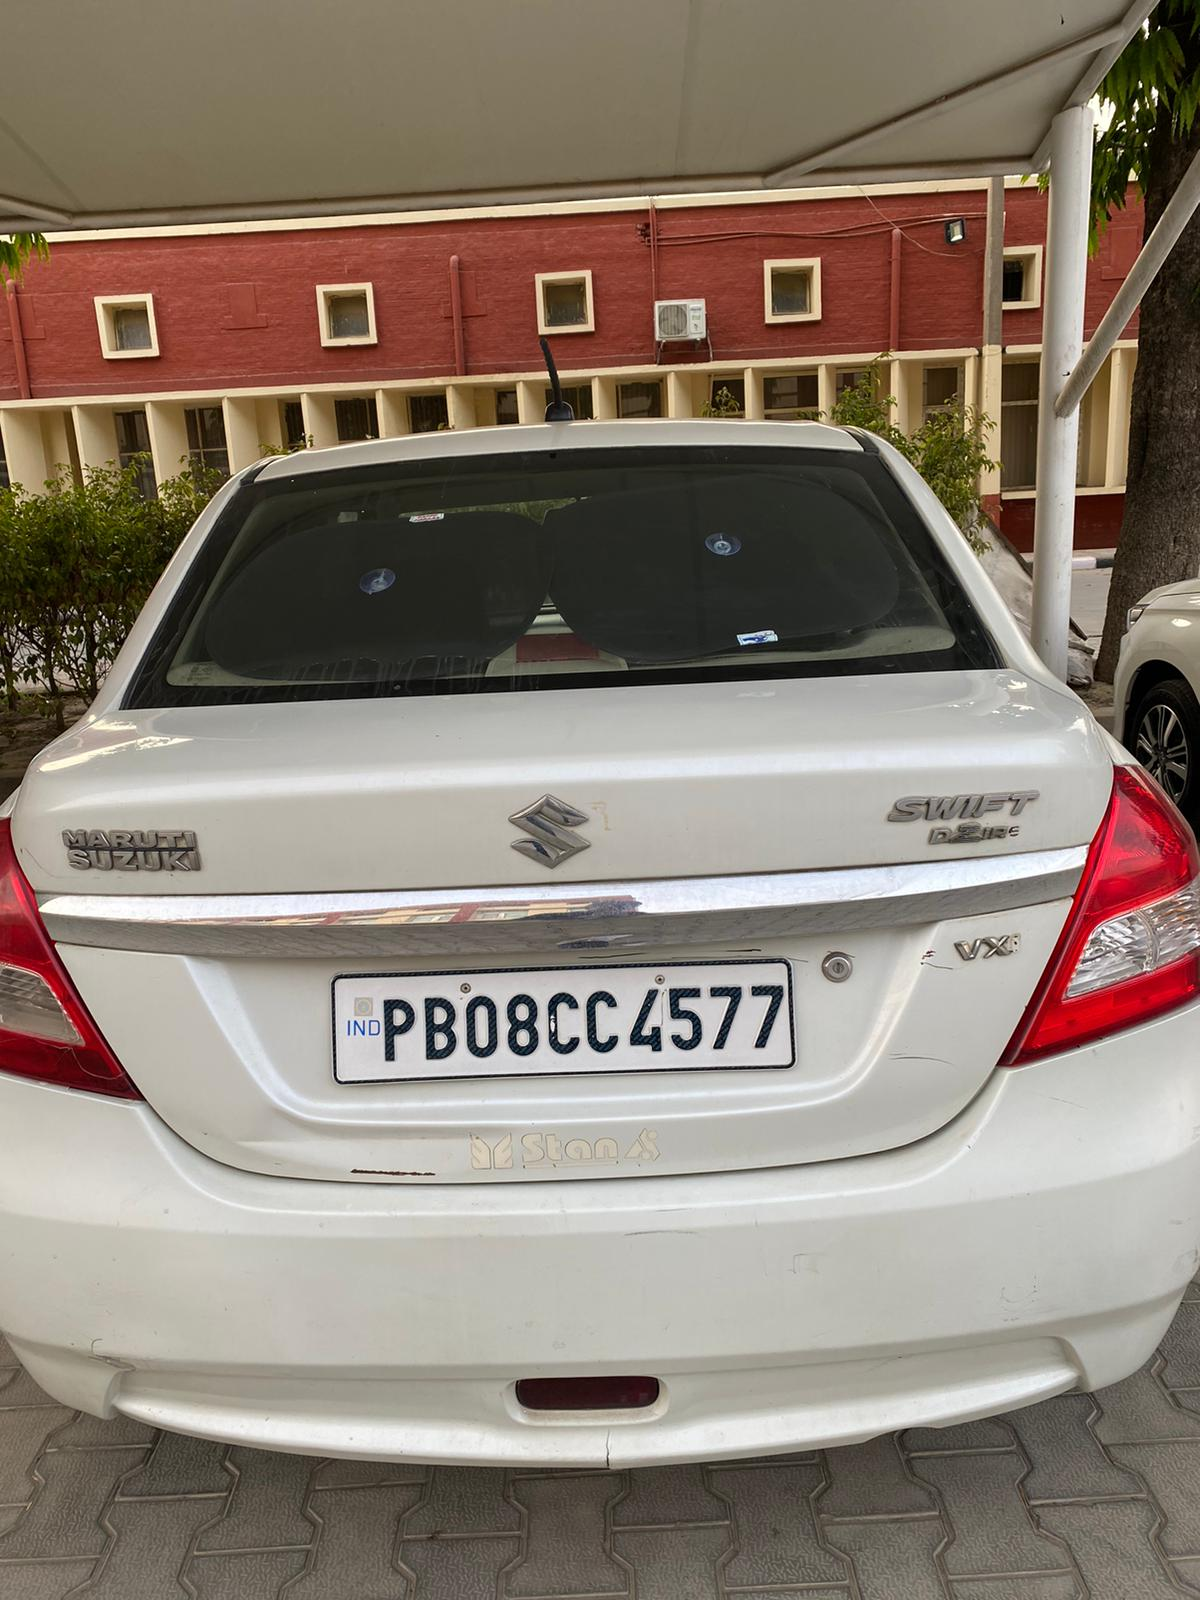license plate: (333, 960, 793, 1082)
